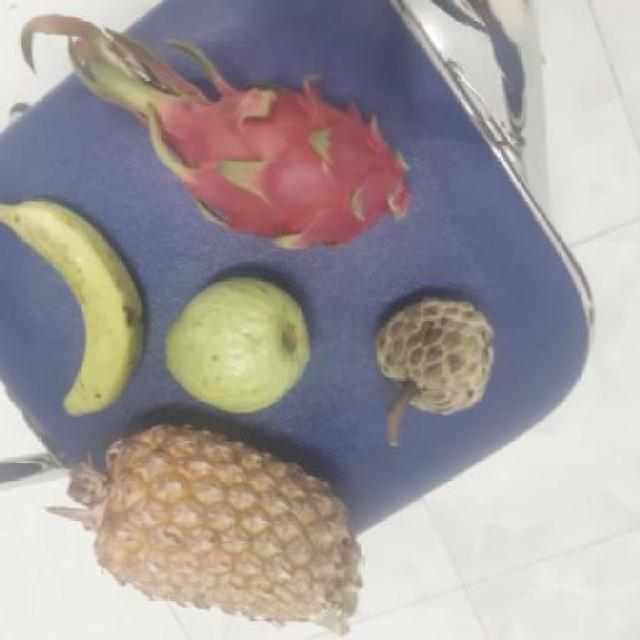banana: (1, 193, 150, 416)
dragon fruit: (155, 75, 424, 251)
guava: (166, 276, 320, 409)
pineapple: (90, 416, 364, 627)
sugar apple: (378, 295, 502, 418)
